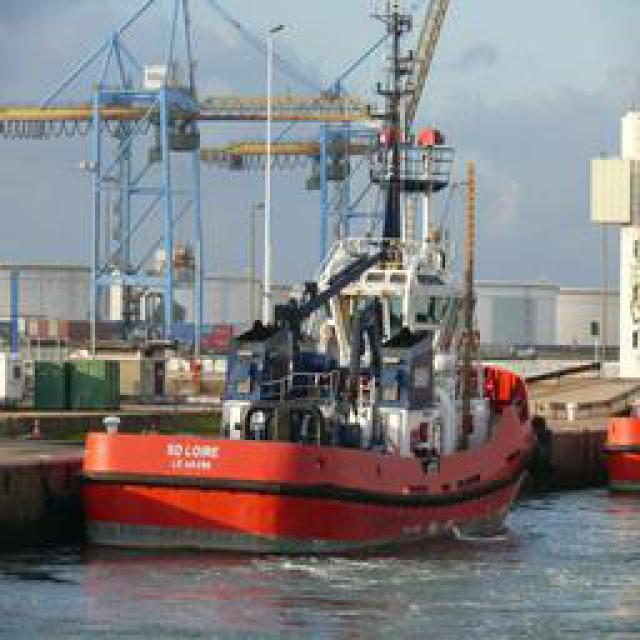Ship: (93, 81, 538, 571)
